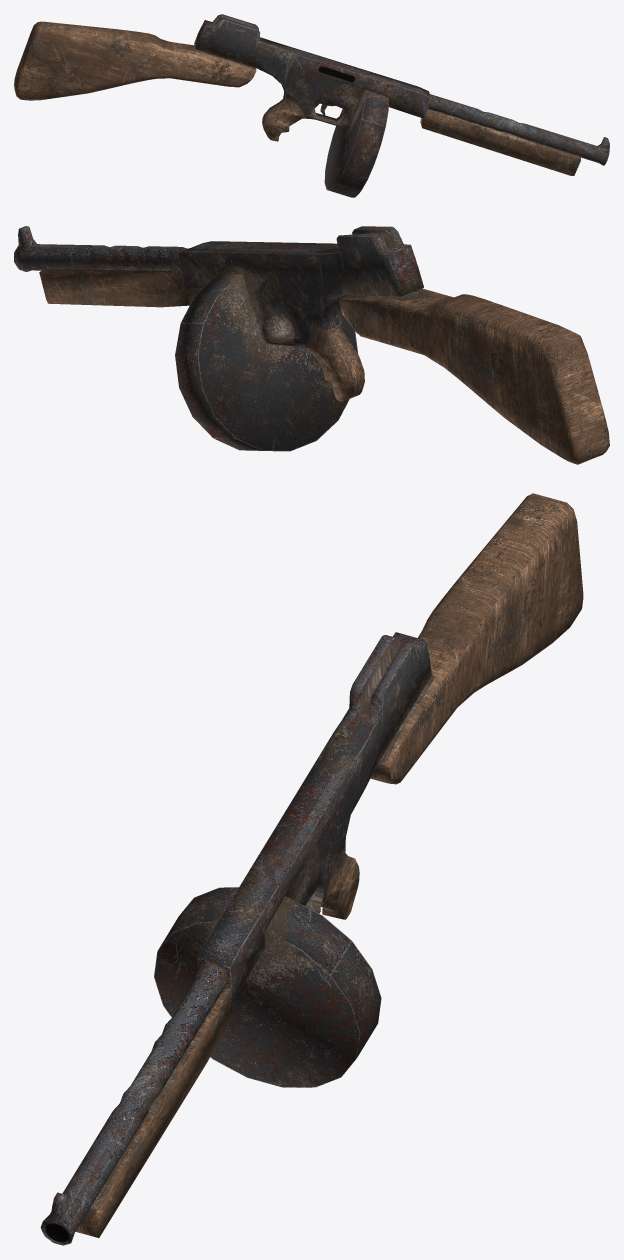
File: Anim_disparar_ametralladora_objetos.0032.obj
3 views of the same model, one above another, from view 1: azimuth 30°, elevation 25°; view 2: azimuth 150°, elevation 25°; view 3: azimuth 270°, elevation 25° (orthographic). The views are drawn at different scales.
Visible parts, largest first — view 1: Ametralladora1; view 2: Ametralladora1; view 3: Ametralladora1.
Part boxes in pixels (box(x1,y1,x2,y2)): Ametralladora1: box(14, 14, 609, 197); Ametralladora1: box(14, 226, 609, 464); Ametralladora1: box(40, 493, 583, 1245).
Bounding box in the file's own units: 5.53 × 1.97 × 2.74.
